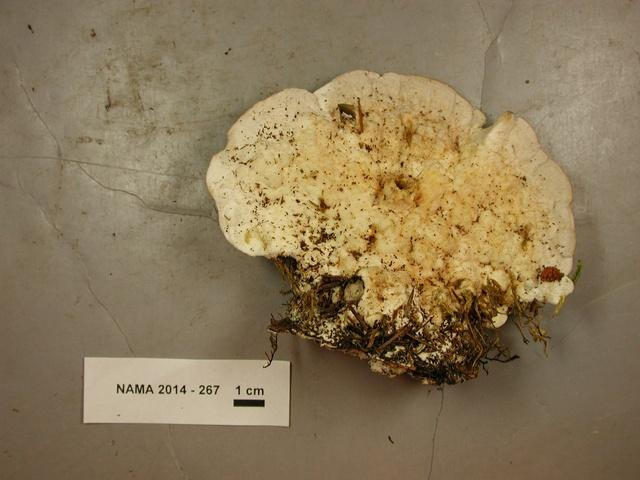Non-edible Mushroom: (204, 68, 577, 386)
